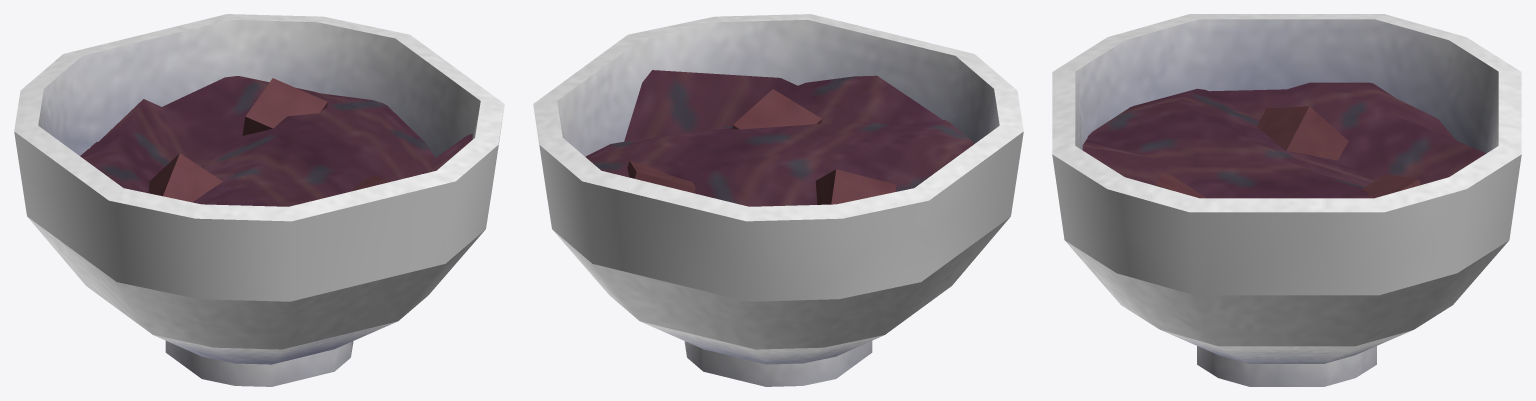
Rendered from Soup_Burnt.fbx.
The picture shows the model from 3 angles, left to right: view 1: azimuth 30°, elevation 25°; view 2: azimuth 150°, elevation 25°; view 3: azimuth 270°, elevation 25°; orthographic projection. The views are drawn at different scales.
Visible parts, largest first — view 1: Bowl_Burnt; view 2: Bowl_Burnt; view 3: Bowl_Burnt.
Part boxes in pixels (<box>): Bowl_Burnt: <box>14,14,504,386</box>; Bowl_Burnt: <box>533,14,1023,386</box>; Bowl_Burnt: <box>1052,14,1521,386</box>.
Bounding box in the file's own units: 73.59 × 41.55 × 73.59.
